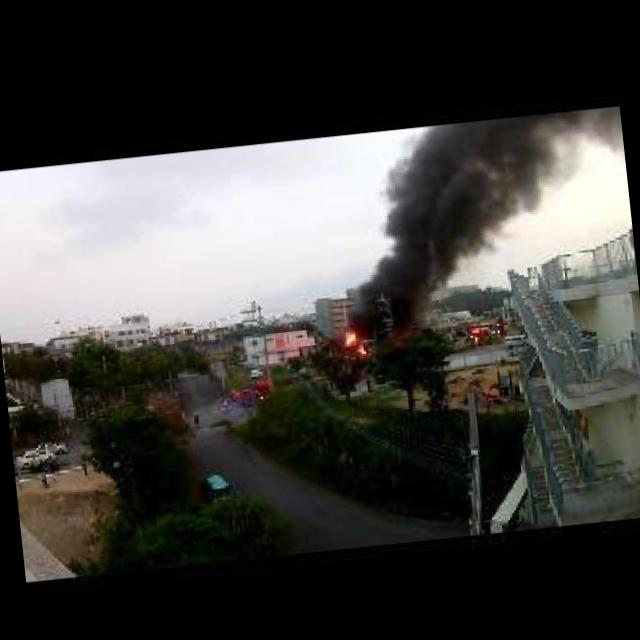fire: (341, 331, 358, 344), (356, 344, 366, 352)
smoke: (336, 113, 576, 345)
